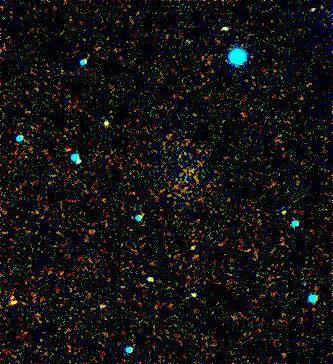star: (0, 287, 27, 317)
